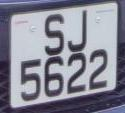2: (86, 45, 112, 93), (65, 50, 90, 98)
5: (16, 56, 44, 107)
6: (42, 56, 67, 101)
J: (64, 6, 92, 58)
S: (40, 10, 69, 60)
